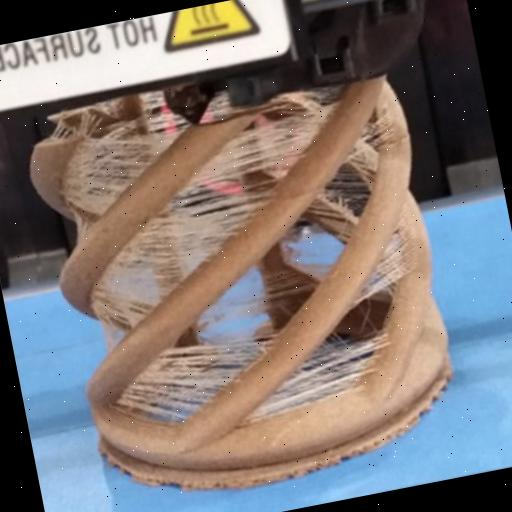stringing: (74, 180, 298, 348), (168, 96, 353, 198), (103, 326, 280, 431), (232, 322, 400, 422), (51, 114, 181, 224), (325, 206, 430, 316), (332, 100, 413, 174)
